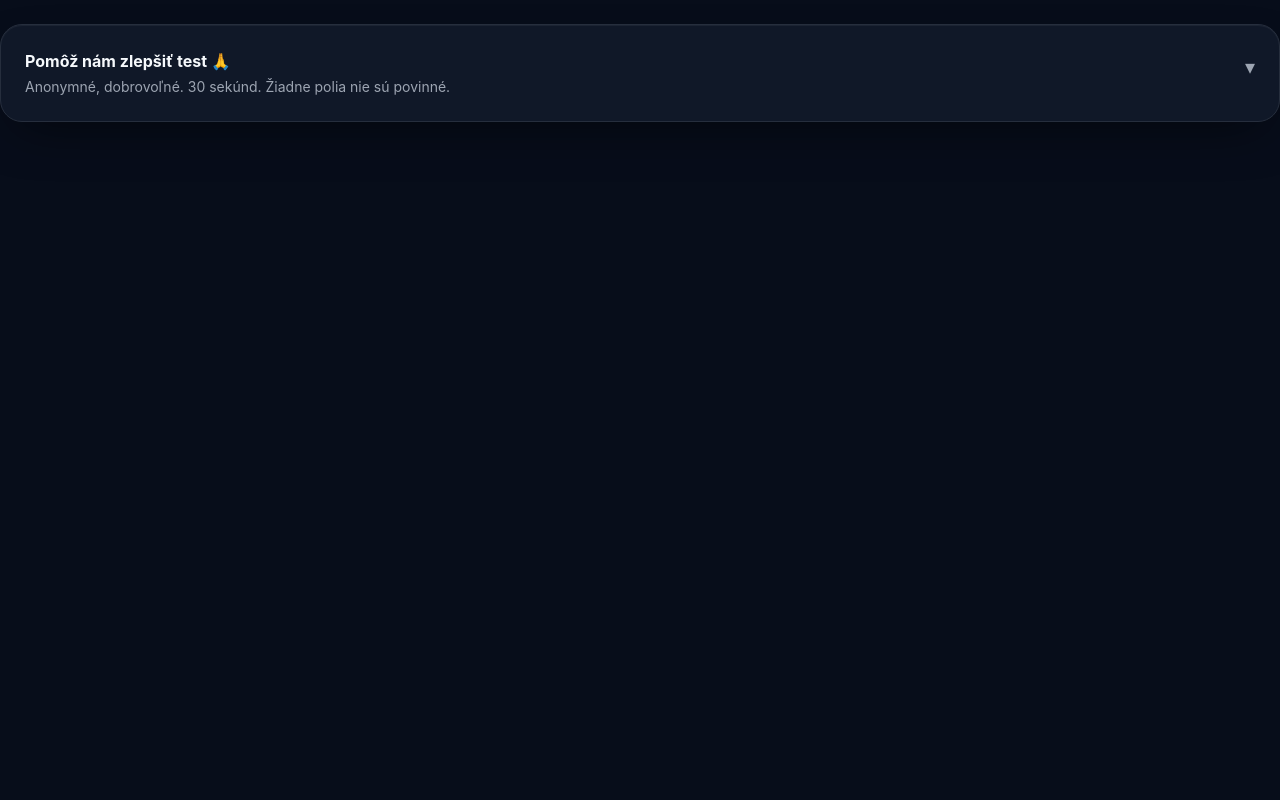
Test: SurveyCard — E2.3 growth questions › after success with wantsCourses=false, thank-you state has NO /skolenia CTA
Click the button "Pomôž nám zlepšiť test": (128, 61) [17, 41, 1263, 105]
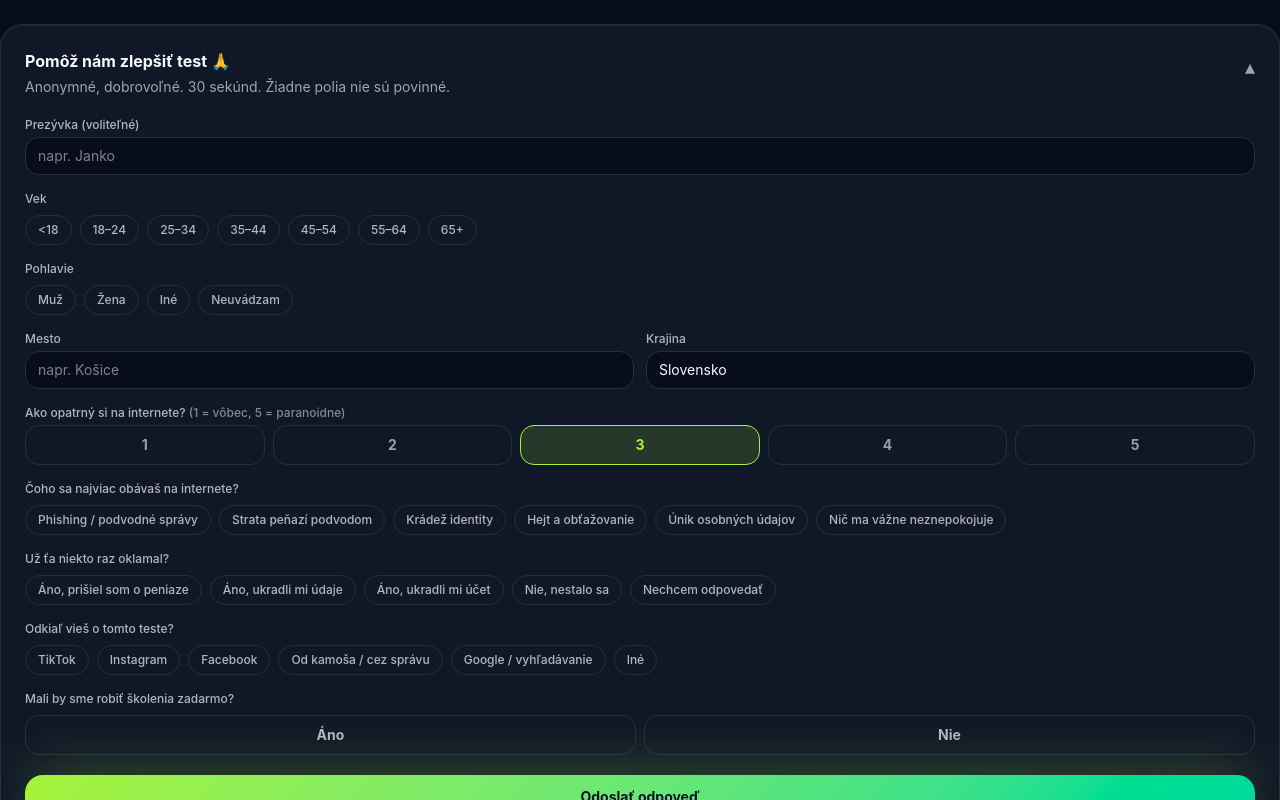
Click the radio button labelled "Nie": (950, 735) [644, 715, 1255, 755]
(page scrolled)
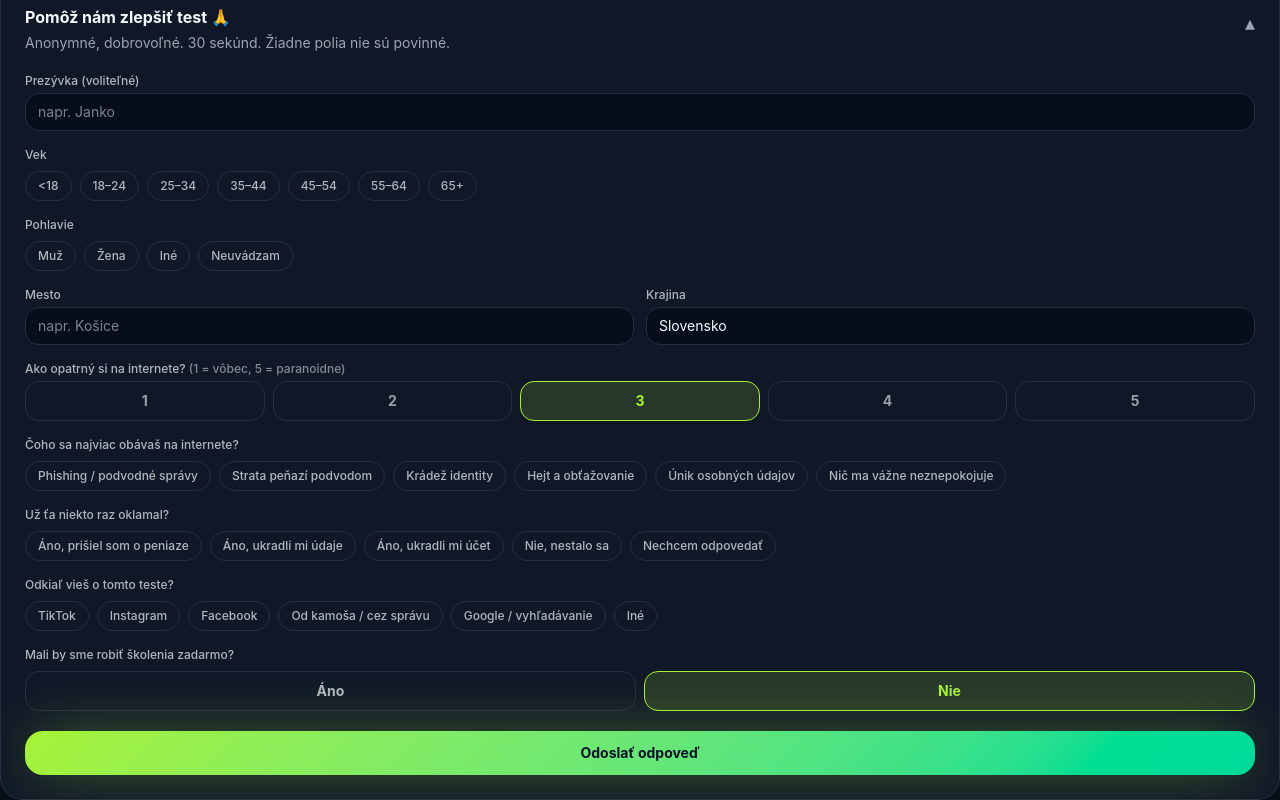
Click the button "Odoslať odpoveď": (640, 753) [25, 731, 1255, 775]
(page scrolled)
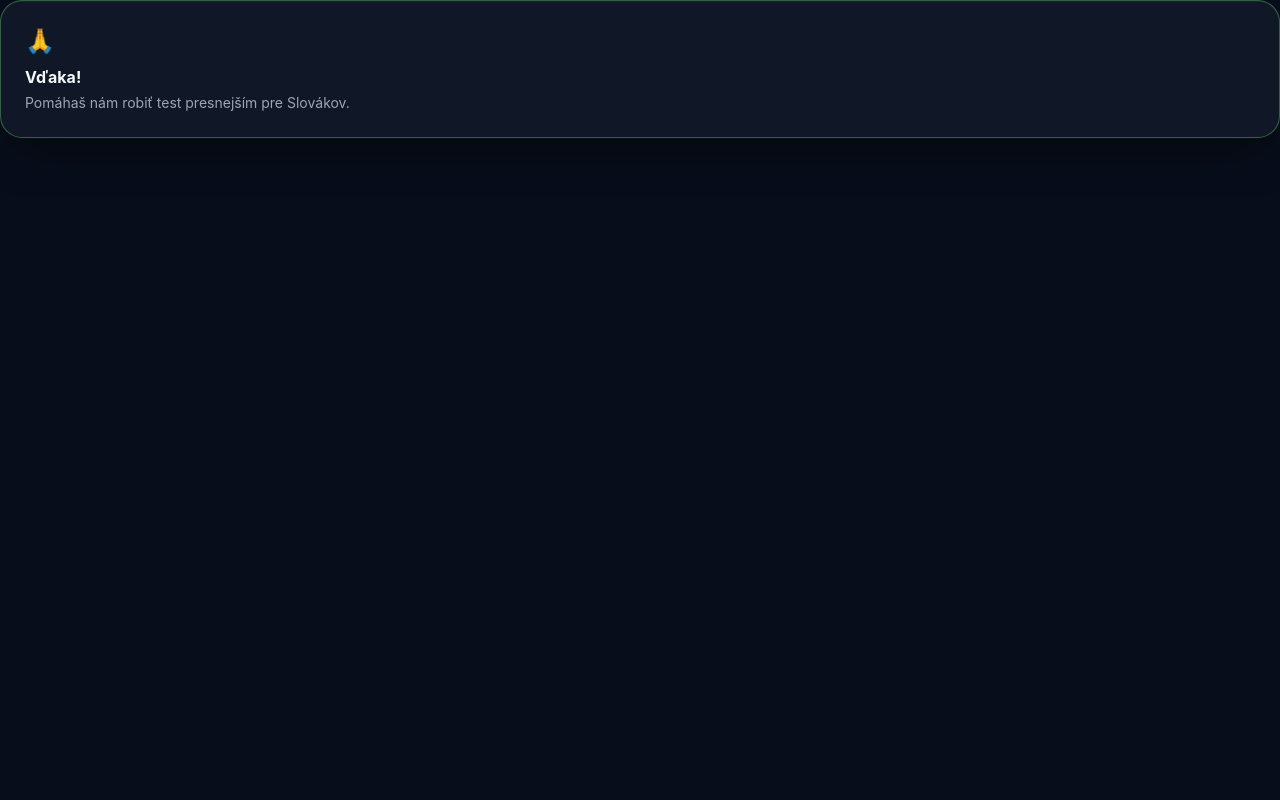
Check: the heading "Vďaka!" is shown, box [25, 67, 81, 87]
